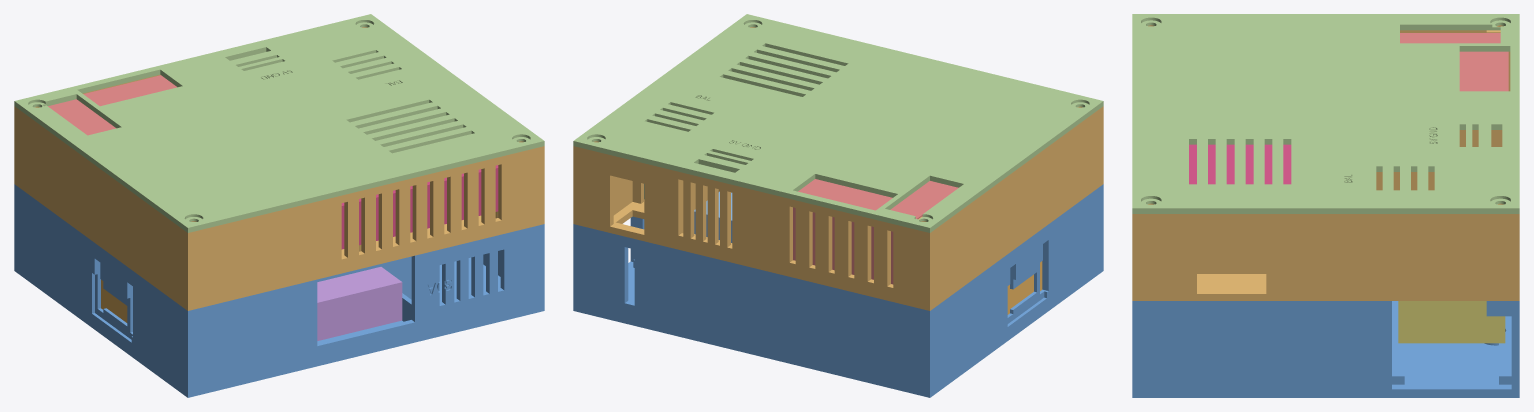
The model's file is backpack_v2.glb.
3 renders of one model, left to right at view 1: azimuth 30°, elevation 25°; view 2: azimuth 150°, elevation 25°; view 3: azimuth 270°, elevation 25°, orthographic. The views are drawn at different scales.
Visible parts, largest first — view 1: bp2_lid, bp2_base, bp2_deck, bp2_c_fuse_holder, bp2_c_cutoff, bp2_c_pi, bp2_c_switch; view 2: bp2_lid, bp2_base, bp2_deck, bp2_c_cutoff, bp2_c_switch; view 3: bp2_lid, bp2_deck, bp2_base, bp2_c_lipo, bp2_c_cutoff, bp2_c_pi.
Boxes of the visible parts, x1,y1,x2,y2 form: bp2_lid: (14, 14, 544, 232); bp2_base: (14, 184, 544, 397); bp2_deck: (14, 27, 544, 310); bp2_c_fuse_holder: (317, 267, 402, 340); bp2_c_cutoff: (48, 75, 176, 135); bp2_c_pi: (341, 165, 498, 249); bp2_c_switch: (101, 279, 127, 322); bp2_lid: (573, 14, 1103, 232); bp2_base: (573, 184, 1103, 397); bp2_deck: (573, 27, 1103, 310); bp2_c_cutoff: (793, 179, 958, 284); bp2_c_switch: (1007, 261, 1042, 314); bp2_lid: (1132, 14, 1519, 213); bp2_deck: (1132, 25, 1519, 300); bp2_base: (1132, 301, 1519, 397); bp2_c_lipo: (1398, 301, 1505, 343); bp2_c_cutoff: (1400, 33, 1508, 91); bp2_c_pi: (1189, 144, 1291, 184).
Size of the model in its own units: 0.146 by 0.0665 by 0.123.
